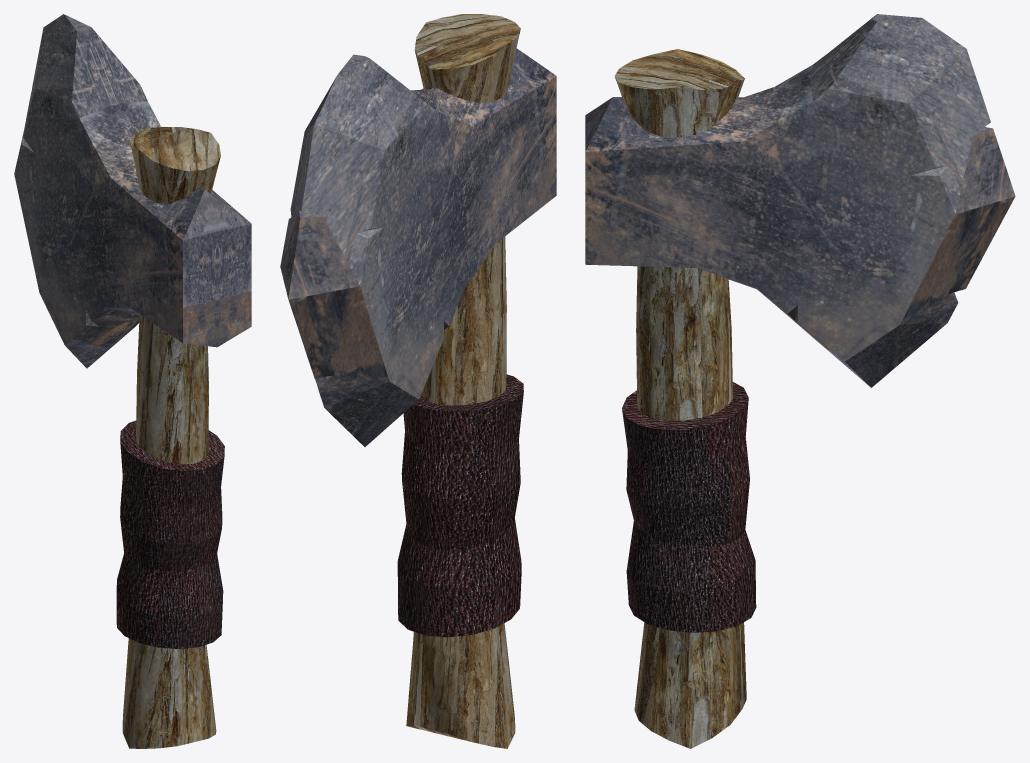
The model's file is tool_axe.glb.
The picture shows the model from 3 angles, left to right: view 1: azimuth 30°, elevation 25°; view 2: azimuth 150°, elevation 25°; view 3: azimuth 270°, elevation 25°; orthographic projection. The views are drawn at different scales.
Visible parts, largest first — view 1: tool_axe; view 2: tool_axe; view 3: tool_axe.
Boxes of the visible parts, x1,y1,x2,y2 form: tool_axe: (14,14,251,748); tool_axe: (280,14,556,748); tool_axe: (585,14,1015,748).
Bounding box in the file's own units: 0.0809 × 0.55 × 0.3022.
Materials: 3 (3 with a texture image).
